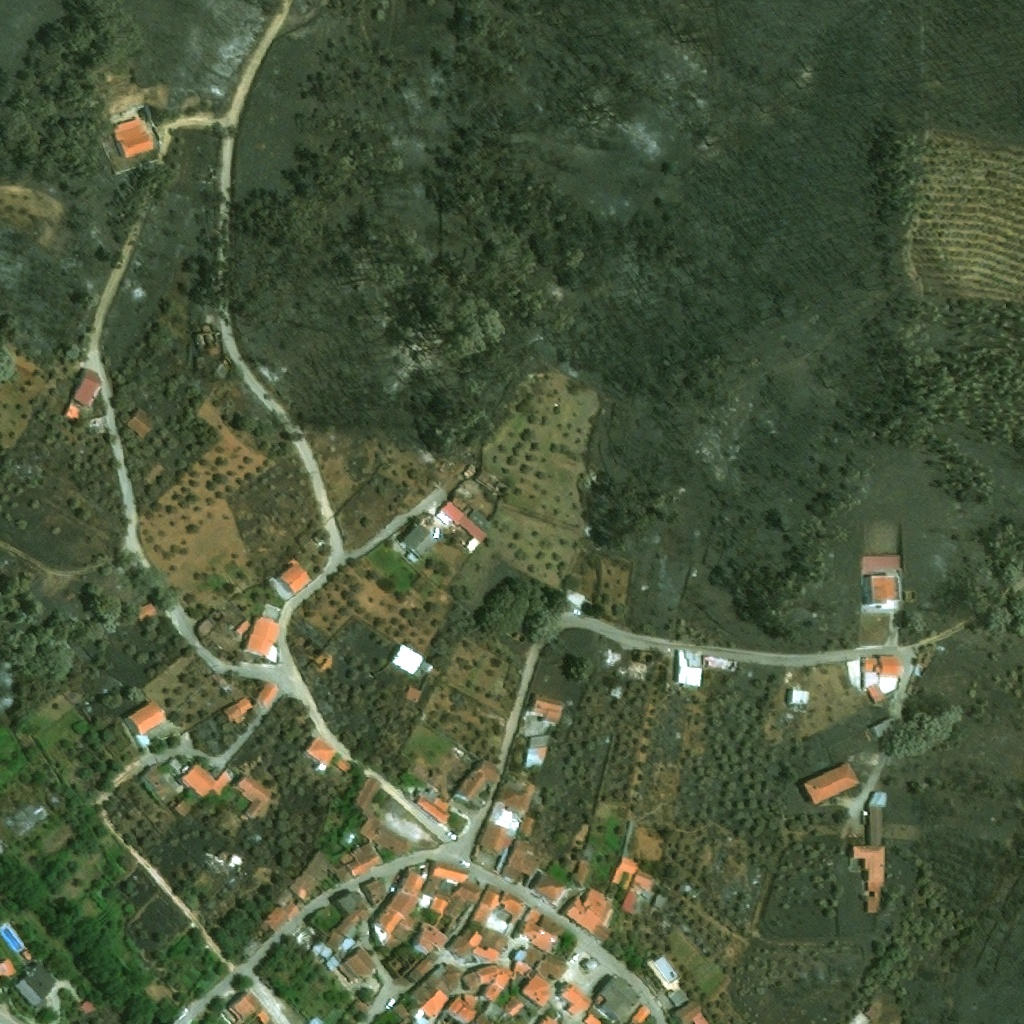0 no-damage: (472, 772, 538, 859), (387, 958, 464, 1023), (848, 790, 888, 913), (371, 868, 433, 947), (319, 889, 373, 956), (561, 881, 618, 944), (288, 844, 346, 902), (433, 499, 490, 553), (800, 759, 860, 806), (9, 961, 61, 1012), (594, 973, 646, 1023), (249, 894, 300, 944), (453, 756, 506, 804), (515, 908, 569, 955), (357, 814, 412, 857), (859, 655, 906, 704), (182, 761, 235, 802), (469, 884, 510, 937), (449, 926, 509, 962), (620, 866, 663, 916), (449, 492, 496, 535), (460, 964, 513, 1002), (234, 771, 274, 821), (111, 115, 156, 159), (399, 522, 442, 566), (503, 835, 545, 880), (271, 554, 313, 597), (441, 881, 485, 922), (122, 699, 170, 736), (244, 614, 284, 658), (391, 643, 437, 681), (666, 985, 709, 1023), (337, 946, 377, 985), (408, 921, 451, 957), (414, 791, 458, 825), (345, 841, 385, 878), (645, 954, 683, 989), (70, 369, 103, 409), (558, 982, 593, 1019), (862, 573, 903, 604), (521, 973, 557, 1008), (306, 736, 340, 773), (227, 989, 263, 1023), (610, 852, 642, 890), (534, 870, 569, 903), (404, 952, 440, 984), (352, 774, 382, 812), (533, 953, 569, 984), (431, 859, 471, 885), (529, 697, 565, 725), (444, 993, 477, 1023), (676, 649, 702, 687), (359, 876, 386, 910), (525, 734, 552, 768), (221, 696, 253, 724), (126, 408, 156, 437), (868, 715, 902, 740), (498, 892, 528, 918), (512, 947, 534, 981), (254, 680, 280, 708), (134, 598, 161, 622), (786, 688, 811, 711), (502, 994, 526, 1017), (429, 891, 451, 915), (172, 797, 194, 819), (574, 859, 592, 884), (77, 997, 98, 1018), (519, 816, 538, 836), (631, 1005, 651, 1023), (0, 957, 16, 978), (64, 404, 81, 421), (234, 619, 251, 636), (581, 1011, 604, 1023), (324, 956, 340, 972), (334, 757, 350, 772), (537, 1013, 561, 1023), (20, 949, 33, 962), (585, 958, 599, 969)
1 minor-damage: (141, 753, 189, 808), (474, 467, 511, 497), (702, 655, 739, 673)
2 major-damage: (215, 845, 250, 868)
3 destroyed: (195, 323, 224, 361), (91, 415, 111, 434), (218, 357, 236, 377), (634, 650, 656, 666), (610, 683, 623, 699)
4 un-classified: (370, 1008, 403, 1023), (208, 1010, 233, 1023), (473, 1014, 494, 1023), (256, 1011, 271, 1023)
